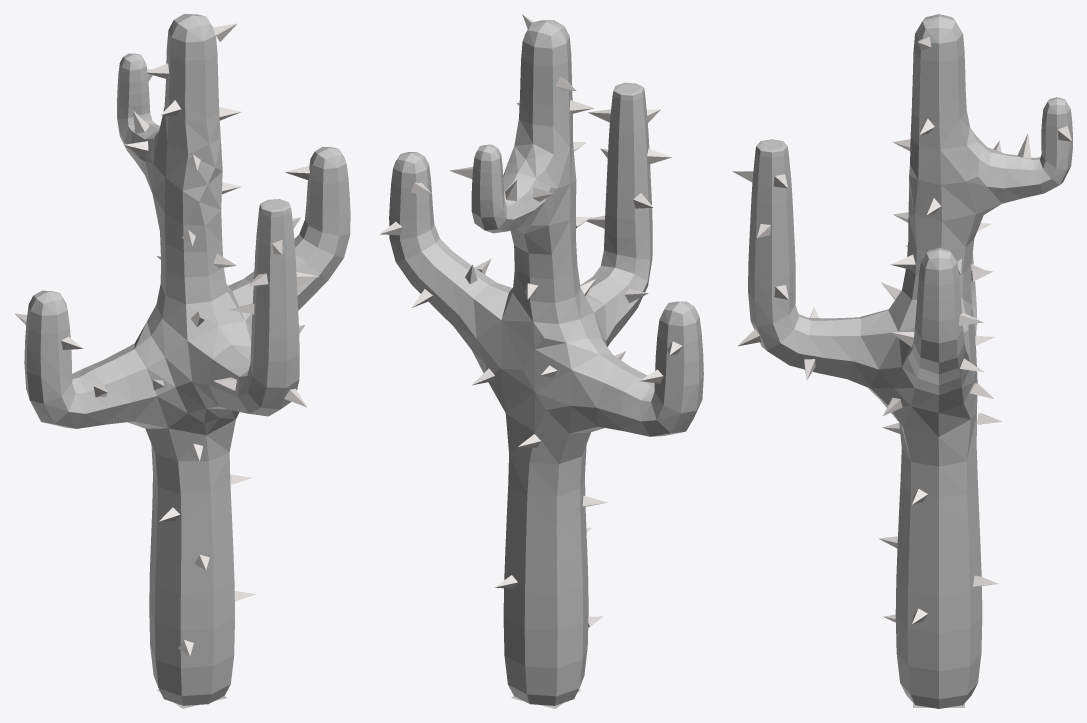
The model's file is cactus.gltf.
The picture shows the model from 3 angles, left to right: view 1: azimuth 30°, elevation 25°; view 2: azimuth 150°, elevation 25°; view 3: azimuth 270°, elevation 25°; orthographic projection.
Parts seen in each view (by area): view 1: Plane; view 2: Plane; view 3: Plane.
Part boxes in pixels (x1,y1,x2,y2): Plane: (24, 14, 350, 708); Plane: (389, 20, 703, 708); Plane: (748, 14, 1072, 708).
Bounding box in the file's own units: 1.75 × 3.6 × 1.63.
